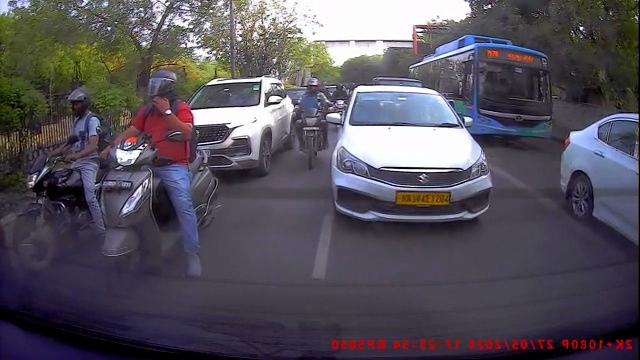motorcycle_with_helmet: (103, 70, 222, 281), (10, 86, 109, 273), (292, 75, 334, 171)
